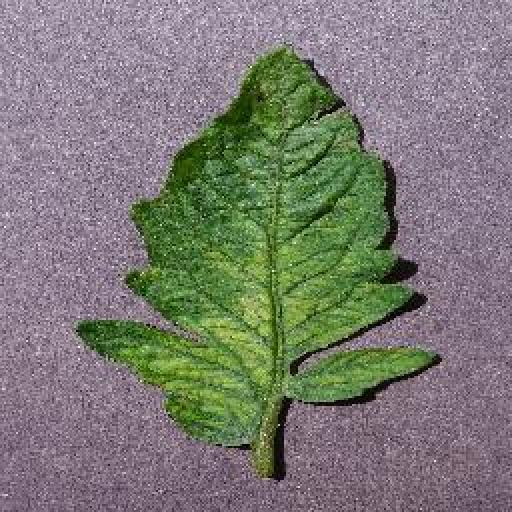Mosaic Virus: (75, 49, 439, 451)
